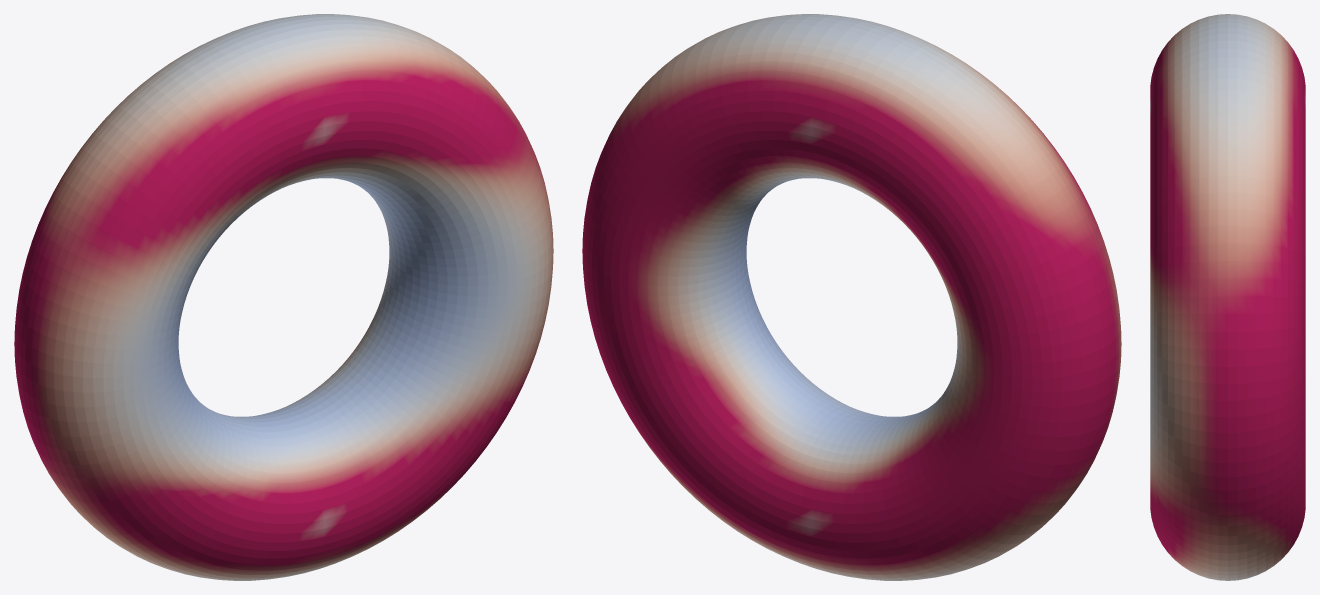
3 renders of one model, left to right at view 1: azimuth 30°, elevation 25°; view 2: azimuth 150°, elevation 25°; view 3: azimuth 270°, elevation 25°, orthographic. The views are drawn at different scales.
Parts seen in each view (by area): view 1: world; view 2: world; view 3: world.
Boxes of the visible parts, x1,y1,x2,y2 form: world: [14, 14, 553, 580]; world: [582, 14, 1121, 580]; world: [1150, 14, 1305, 580].
Size of the model in its own units: 26.67 by 26.67 by 7.32.
